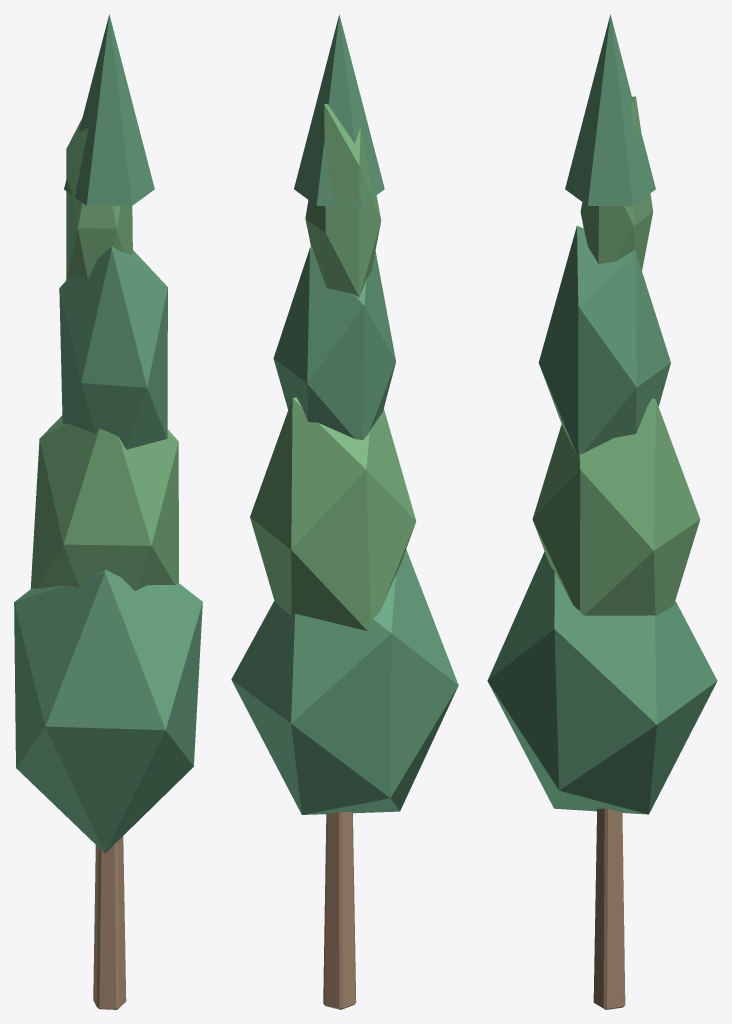
Rendered from cipreste_0.fbx.
3 renders of one model, left to right at view 1: azimuth 30°, elevation 25°; view 2: azimuth 150°, elevation 25°; view 3: azimuth 270°, elevation 25°, orthographic.
Parts seen in each view (by area): view 1: cipreste_0~Copa 0@cypress, cipreste_0~Copa 1@leafdark, cipreste_0~Copa 2@cypress, cipreste_0~Ponta@cypress, cipreste_0~Tronco@bark, cipreste_0~Copa 3@leafdark; view 2: cipreste_0~Copa 0@cypress, cipreste_0~Copa 1@leafdark, cipreste_0~Copa 2@cypress, cipreste_0~Copa 3@leafdark, cipreste_0~Ponta@cypress, cipreste_0~Tronco@bark; view 3: cipreste_0~Copa 0@cypress, cipreste_0~Copa 1@leafdark, cipreste_0~Copa 2@cypress, cipreste_0~Ponta@cypress, cipreste_0~Tronco@bark, cipreste_0~Copa 3@leafdark.
Boxes of the visible parts, x1=… form: cipreste_0~Copa 0@cypress: x1=14, y1=569, x2=202, y2=853; cipreste_0~Copa 1@leafdark: x1=30, y1=415, x2=178, y2=590; cipreste_0~Copa 2@cypress: x1=59, y1=246, x2=167, y2=449; cipreste_0~Ponta@cypress: x1=64, y1=14, x2=154, y2=205; cipreste_0~Tronco@bark: x1=93, y1=836, x2=126, y2=1009; cipreste_0~Copa 3@leafdark: x1=66, y1=119, x2=132, y2=280; cipreste_0~Copa 0@cypress: x1=231, y1=549, x2=458, y2=814; cipreste_0~Copa 1@leafdark: x1=250, y1=397, x2=416, y2=631; cipreste_0~Copa 2@cypress: x1=273, y1=247, x2=395, y2=440; cipreste_0~Copa 3@leafdark: x1=305, y1=103, x2=381, y2=297; cipreste_0~Ponta@cypress: x1=294, y1=14, x2=384, y2=205; cipreste_0~Tronco@bark: x1=323, y1=812, x2=356, y2=1009; cipreste_0~Copa 0@cypress: x1=487, y1=551, x2=717, y2=814; cipreste_0~Copa 1@leafdark: x1=532, y1=398, x2=700, y2=615; cipreste_0~Copa 2@cypress: x1=538, y1=225, x2=670, y2=456; cipreste_0~Ponta@cypress: x1=565, y1=14, x2=655, y2=205; cipreste_0~Tronco@bark: x1=593, y1=808, x2=625, y2=1009; cipreste_0~Copa 3@leafdark: x1=580, y1=96, x2=653, y2=270.
Bounding box in the file's own units: 1.79 × 9.6 × 2.02.
